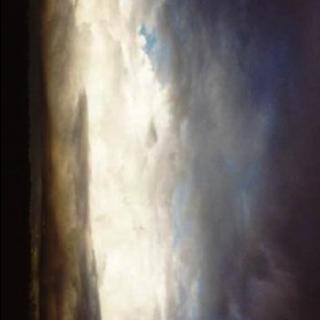Stratocumulus: (22, 0, 320, 320)
